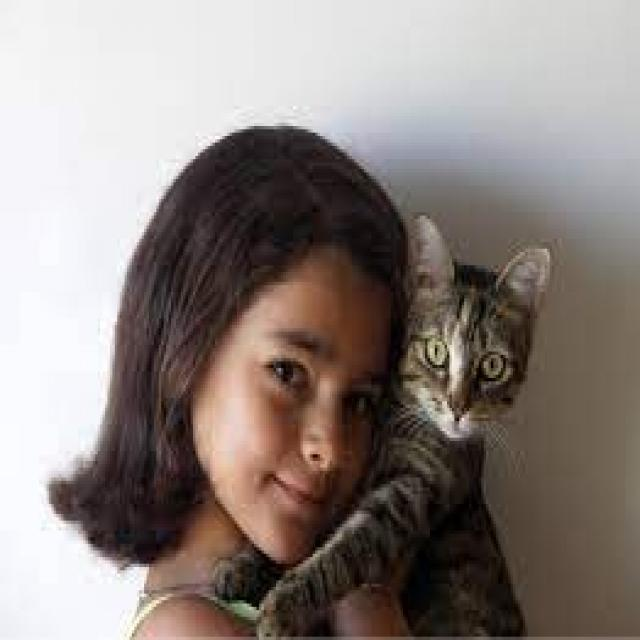Cat: (210, 206, 558, 640)
